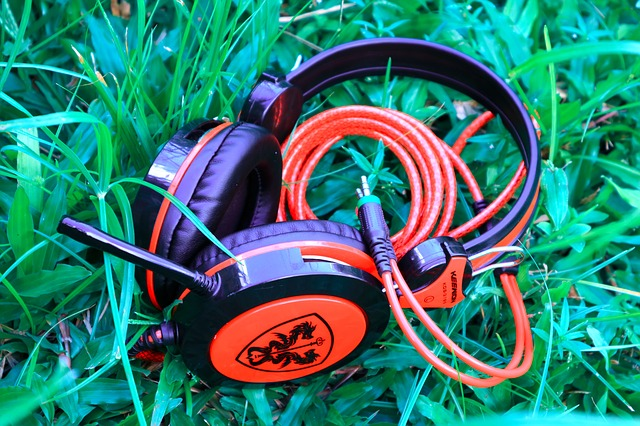headphones: (133, 39, 541, 386)
